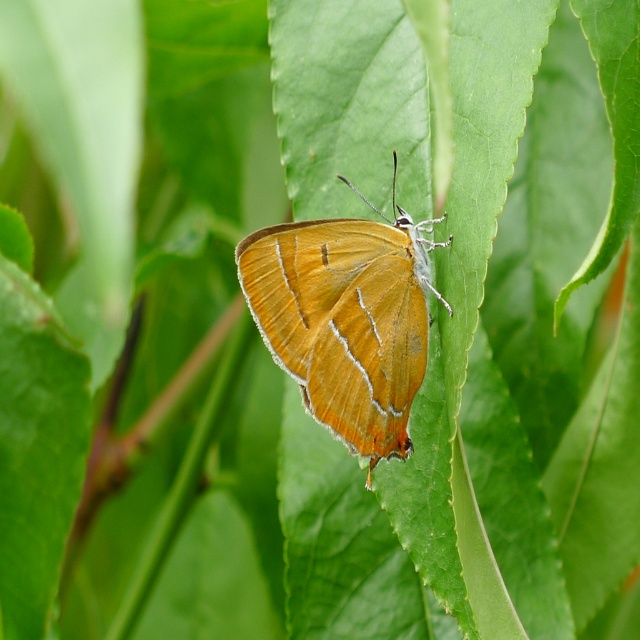Butterfly: (242, 127, 474, 474)
